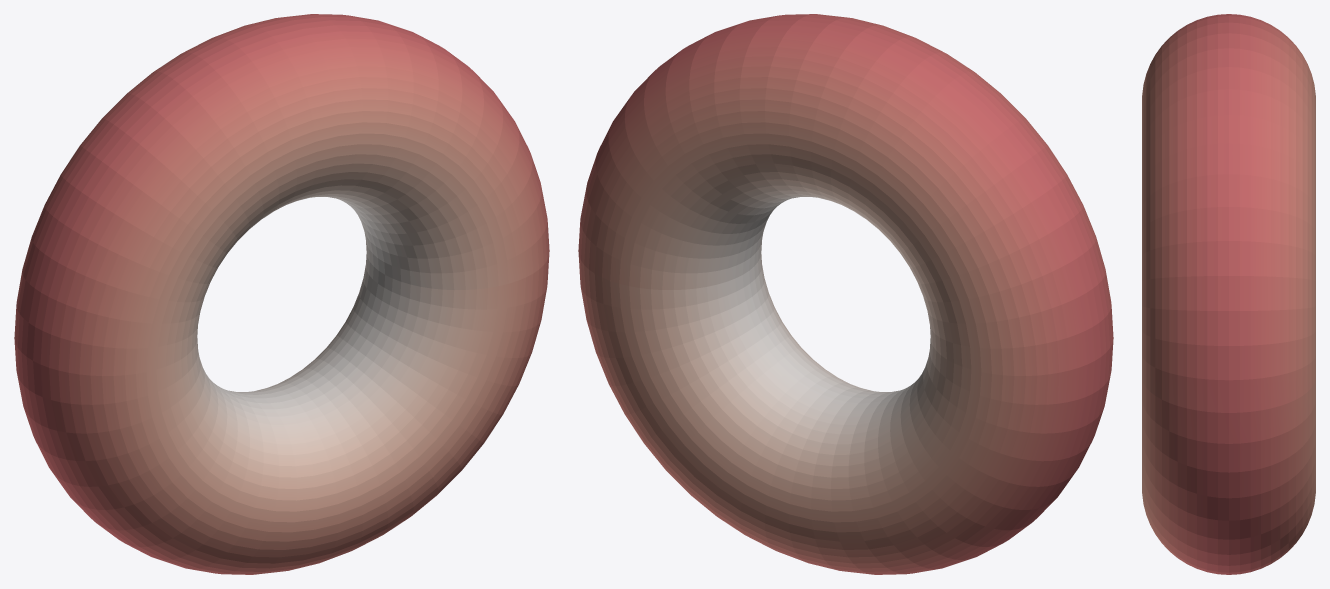
The picture shows the model from 3 angles, left to right: view 1: azimuth 30°, elevation 25°; view 2: azimuth 150°, elevation 25°; view 3: azimuth 270°, elevation 25°; orthographic projection. The views are drawn at different scales.
Parts seen in each view (by area): view 1: world; view 2: world; view 3: world.
Part boxes in pixels (box(x1,y1,x2,y2)): world: box(14, 14, 549, 574); world: box(578, 14, 1113, 574); world: box(1142, 14, 1315, 574).
Size of the model in its own units: 27.07 by 27.01 by 8.38.
